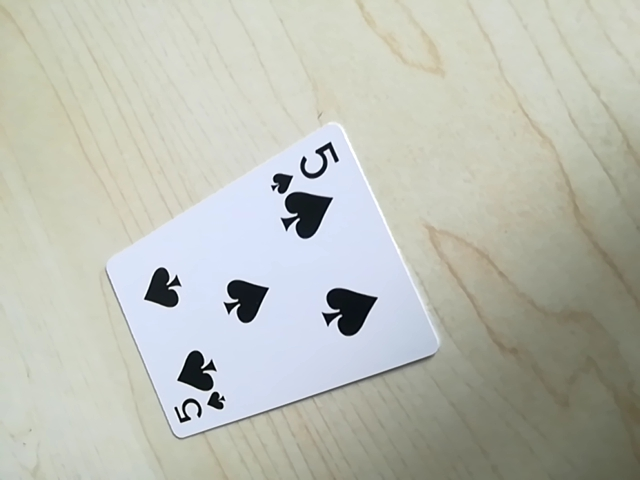ht 5: (272, 135, 343, 190), (166, 388, 230, 430)
